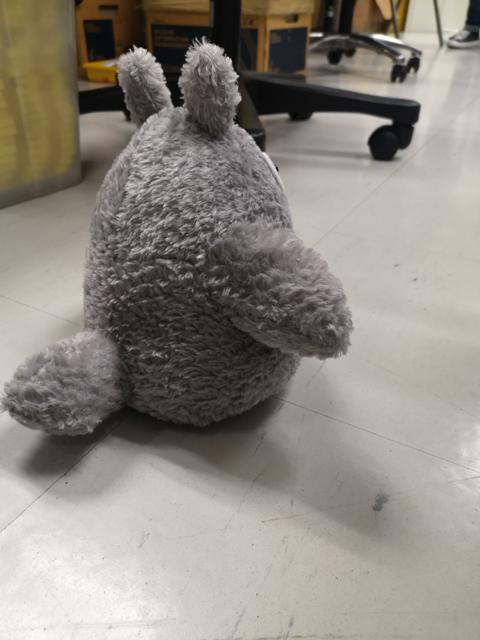totoro: (1, 29, 363, 462)
